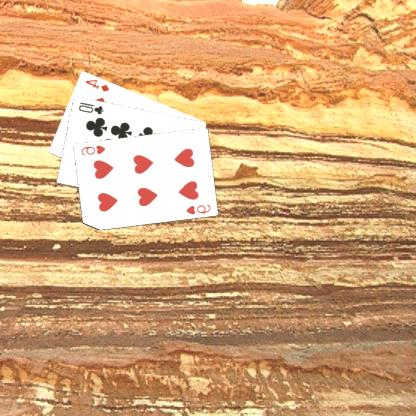10C: (77, 99, 107, 116)
4D: (84, 76, 112, 93)
6H: (184, 201, 214, 216), (80, 142, 108, 157)
